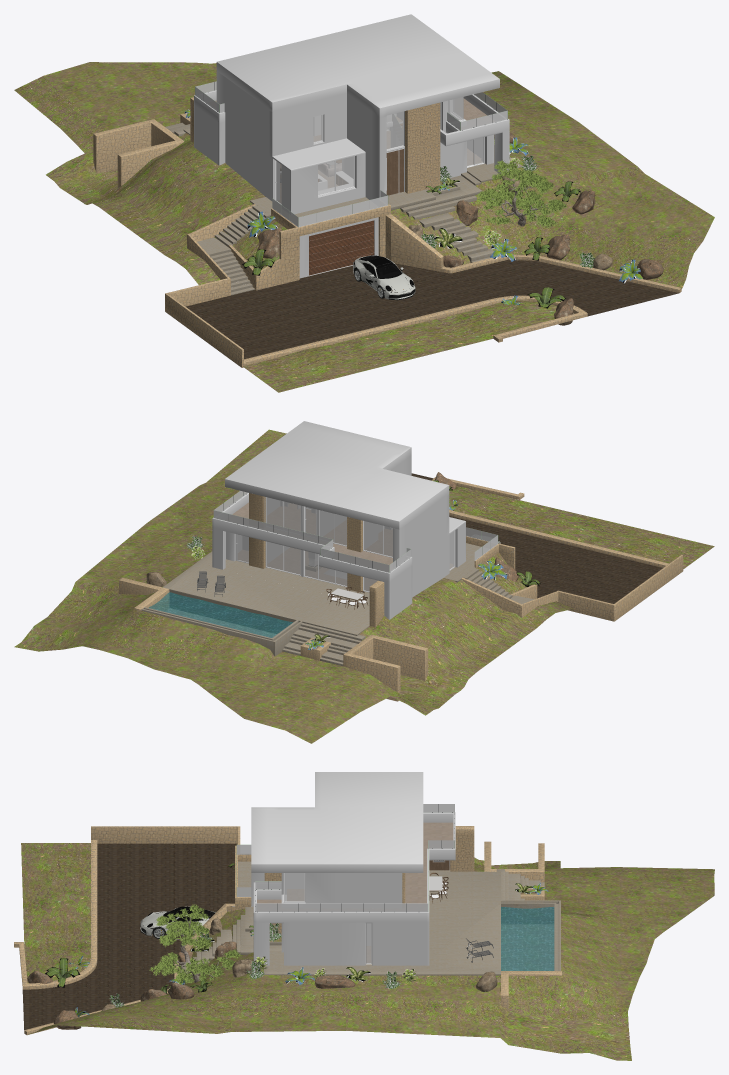
The model's file is villa.glb.
3 views of the same model, one above another, from view 1: azimuth 30°, elevation 25°; view 2: azimuth 150°, elevation 25°; view 3: azimuth 270°, elevation 25° (orthographic). The views are drawn at different scales.
Visible parts, largest first — view 1: Plane.003_Ground003_0, Plane_Plaster_0, Plane_rock_wall_11_disp_2k_0, Plane.002_stone_pathway_02_0, Cube.010_Concrete048_0, Cube_Glass_0, Bonsai_GG050089_0, rock_Rock05_0, Cube.027_synthetic_wood_0, SportsCar_SportsCarBody_0, ferns 1_ferns 1_0, trop_leav 4_trop_leav 4_0 (+4 smaller); view 2: Plane.003_Ground003_0, Plane_Plaster_0, Cube.010_Concrete048_0, Plane_rock_wall_11_disp_2k_0, Cube_Glass_0, Plane.002_stone_pathway_02_0, Cube.028_TilesTravertine_0, Water_Water_0, Cube_WindowFrame_0; view 3: Plane.003_Ground003_0, Plane_Plaster_0, Plane.002_stone_pathway_02_0, Cube.010_Concrete048_0, Plane_rock_wall_11_disp_2k_0, Cube_Glass_0, Water_Water_0, Bonsai_GG050089_0, rock_Rock05_0, Cube.028_TilesTravertine_0, rock.002_Rock08_0, plants_PDM_Ceramic_Wallscape_Planters_Material_14_0 (+3 smaller).
Boxes of the visible parts, left/top/right/bottom form: Plane.003_Ground003_0: left=14, top=62, right=714, bottom=392; Plane_Plaster_0: left=194, top=14, right=509, bottom=278; Plane_rock_wall_11_disp_2k_0: left=93, top=97, right=681, bottom=367; Plane.002_stone_pathway_02_0: left=186, top=259, right=678, bottom=359; Cube.010_Concrete048_0: left=165, top=122, right=522, bottom=295; Cube_Glass_0: left=195, top=81, right=507, bottom=226; Bonsai_GG050089_0: left=477, top=159, right=568, bottom=228; rock_Rock05_0: left=257, top=132, right=663, bottom=325; Cube.027_synthetic_wood_0: left=309, top=179, right=374, bottom=275; SportsCar_SportsCarBody_0: left=353, top=255, right=415, bottom=300; ferns 1_ferns 1_0: left=184, top=109, right=642, bottom=305; trop_leav 4_trop_leav 4_0: left=242, top=181, right=580, bottom=308; Plane.003_Ground003_0: left=14, top=429, right=714, bottom=743; Plane_Plaster_0: left=212, top=421, right=465, bottom=619; Cube.010_Concrete048_0: left=141, top=543, right=534, bottom=666; Plane_rock_wall_11_disp_2k_0: left=119, top=477, right=683, bottom=701; Cube_Glass_0: left=213, top=490, right=497, bottom=599; Plane.002_stone_pathway_02_0: left=411, top=473, right=662, bottom=603; Cube.028_TilesTravertine_0: left=232, top=502, right=452, bottom=592; Water_Water_0: left=149, top=592, right=292, bottom=637; Cube_WindowFrame_0: left=235, top=497, right=455, bottom=605; Plane.003_Ground003_0: left=21, top=843, right=714, bottom=1060; Plane_Plaster_0: left=232, top=772, right=455, bottom=967; Plane.002_stone_pathway_02_0: left=22, top=843, right=237, bottom=1029; Cube.010_Concrete048_0: left=180, top=861, right=560, bottom=975; Plane_rock_wall_11_disp_2k_0: left=14, top=826, right=561, bottom=1035; Cube_Glass_0: left=237, top=804, right=454, bottom=963; Water_Water_0: left=501, top=907, right=554, bottom=970; Bonsai_GG050089_0: left=149, top=904, right=240, bottom=983; rock_Rock05_0: left=27, top=941, right=355, bottom=1029; Cube.028_TilesTravertine_0: left=257, top=822, right=453, bottom=962; rock.002_Rock08_0: left=101, top=918, right=497, bottom=1011; plants_PDM_Ceramic_Wallscape_Planters_Material_14_0: left=109, top=923, right=415, bottom=1007.
Size of the model in its own units: 28.55 by 8.96 by 38.12.
Materials: 41 (27 with a texture image).
